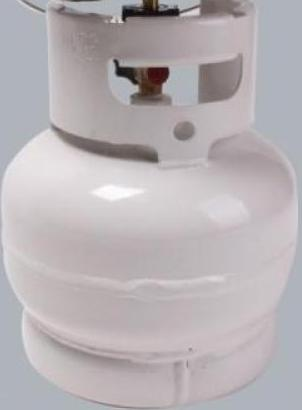cylinder: (1, 0, 302, 410)
